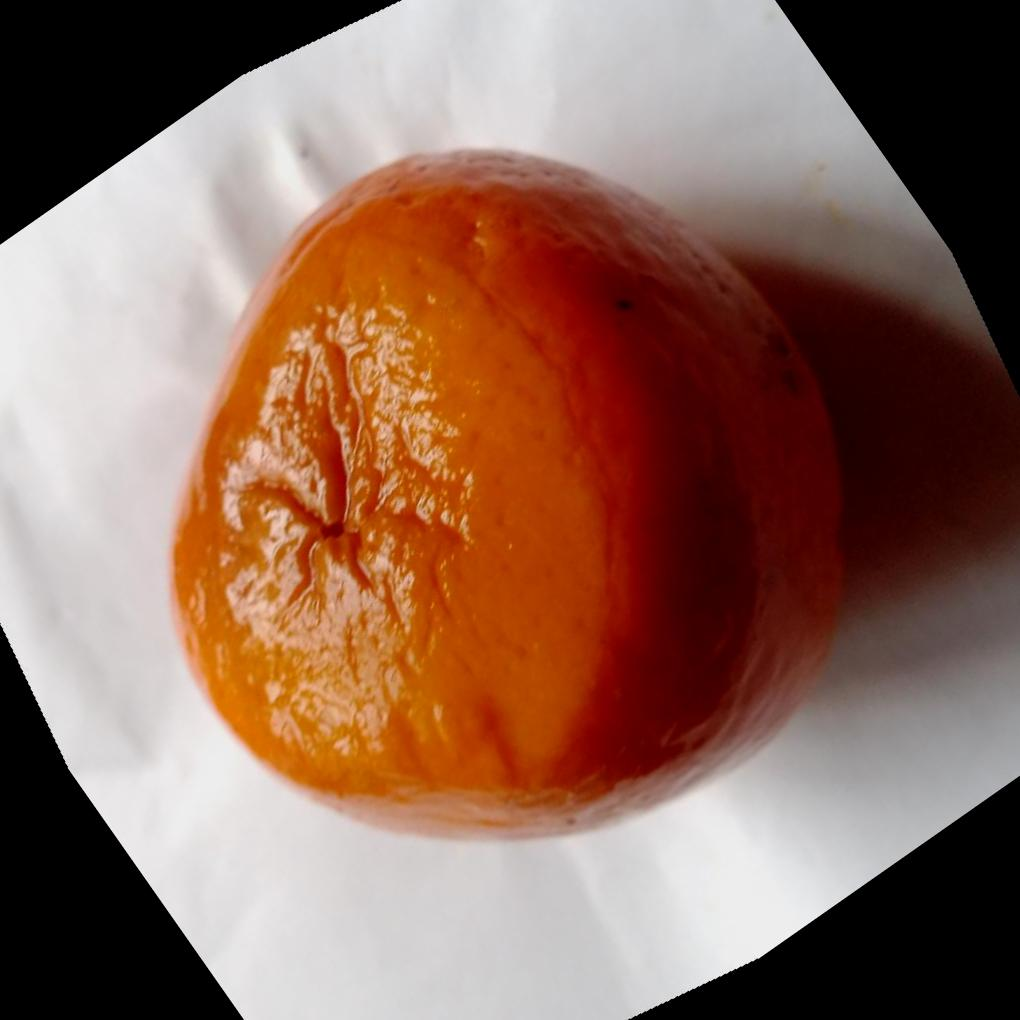FreshOrange: (169, 147, 849, 847)
